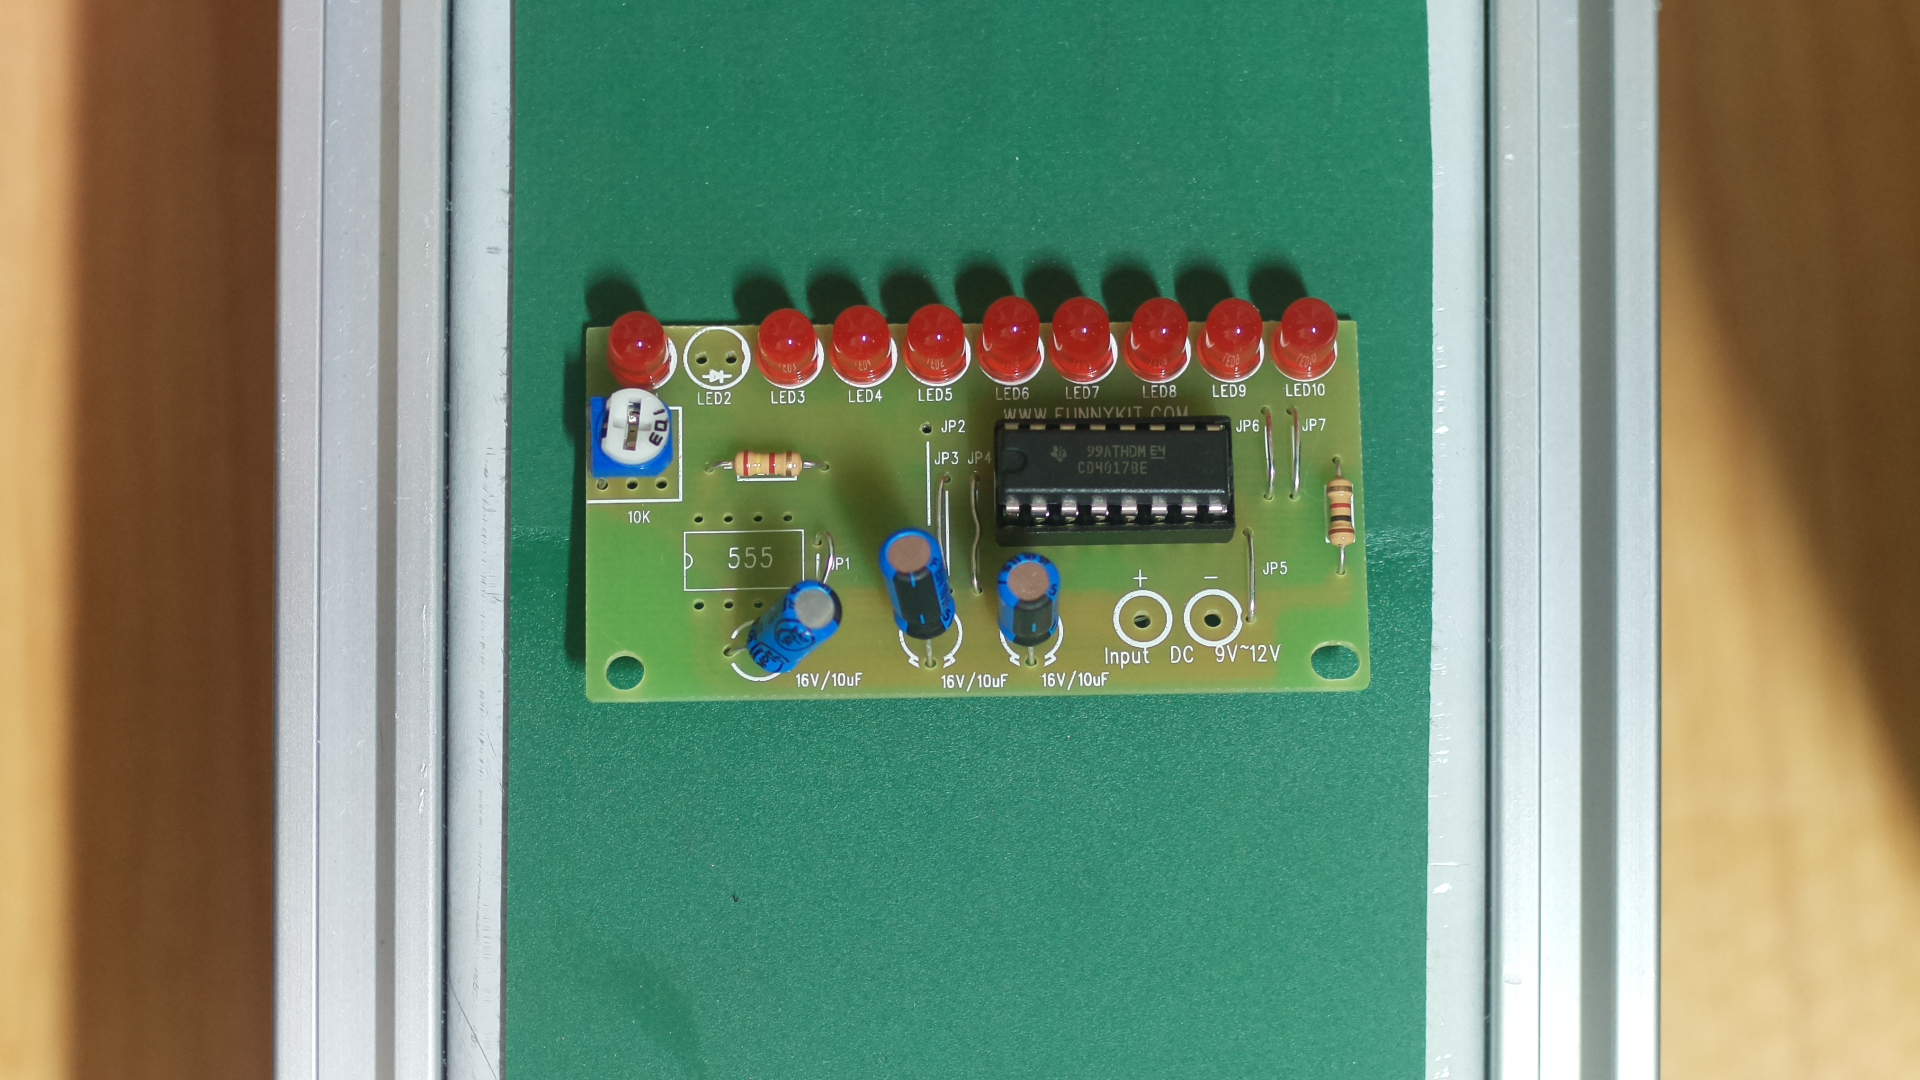B_Missing_part: (574, 294, 1390, 716)
